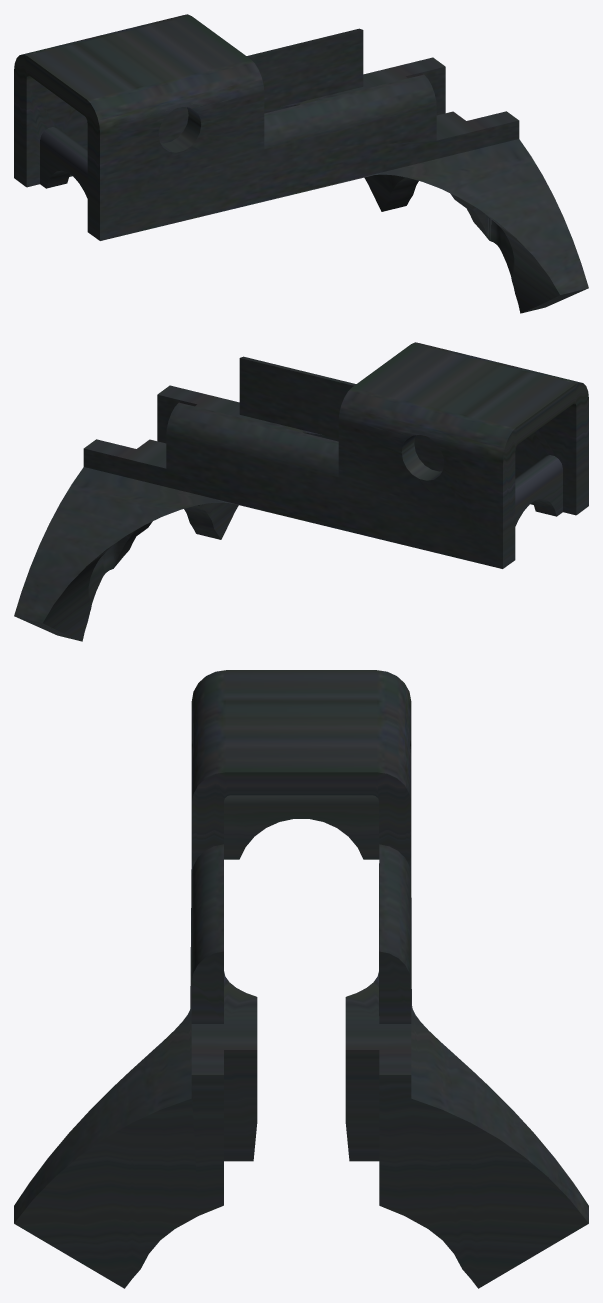
File: Special_Shaped_Spacer.dae
3 views of the same model, one above another, from view 1: azimuth 30°, elevation 25°; view 2: azimuth 150°, elevation 25°; view 3: azimuth 270°, elevation 25° (orthographic). The views are drawn at different scales.
Parts seen in each view (by area): view 1: Special_Shaped_Spacer; view 2: Special_Shaped_Spacer; view 3: Special_Shaped_Spacer.
Part boxes in pixels (box(x1,y1,x2,y2)): Special_Shaped_Spacer: box(14, 14, 588, 313); Special_Shaped_Spacer: box(14, 342, 588, 641); Special_Shaped_Spacer: box(14, 670, 588, 1288).
Bounding box in the file's own units: 0.0309 × 0.0289 × 0.0198.
1 material, 1 textured.
